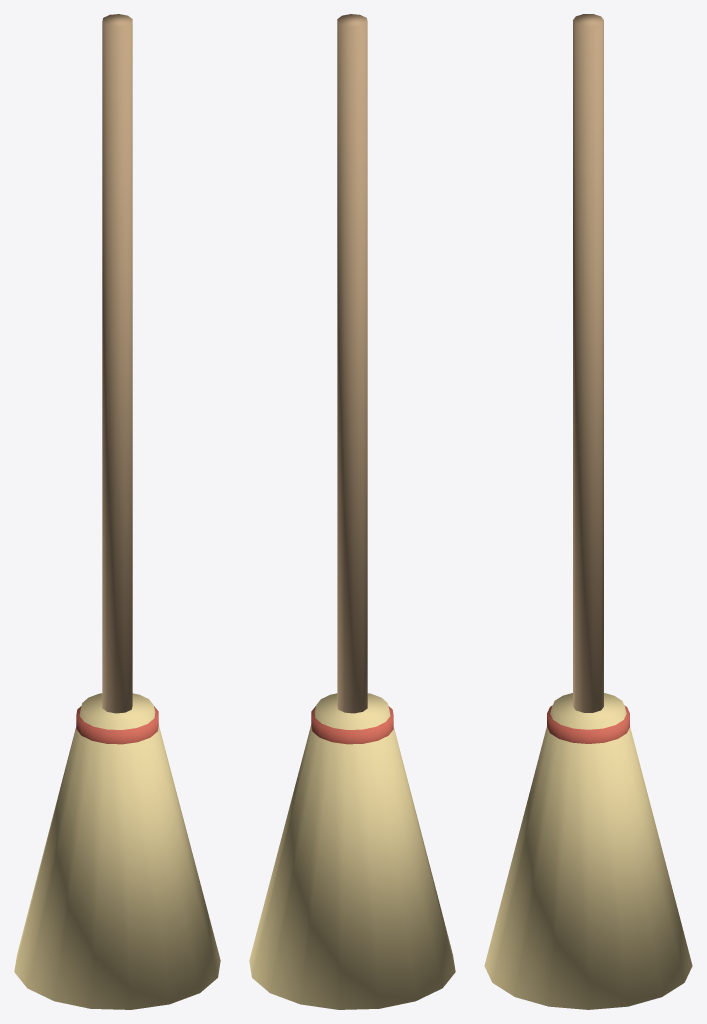
Rendered from broom.glb.
The picture shows the model from 3 angles, left to right: view 1: azimuth 30°, elevation 25°; view 2: azimuth 150°, elevation 25°; view 3: azimuth 270°, elevation 25°; orthographic projection.
Parts seen in each view (by area): view 1: broom; view 2: broom; view 3: broom.
Part boxes in pixels (x1,y1,x2,y2): broom: (14,14,220,1009); broom: (249,14,455,1009); broom: (484,14,692,1009).
Bounding box in the file's own units: 0.4 × 2.01 × 0.4.
